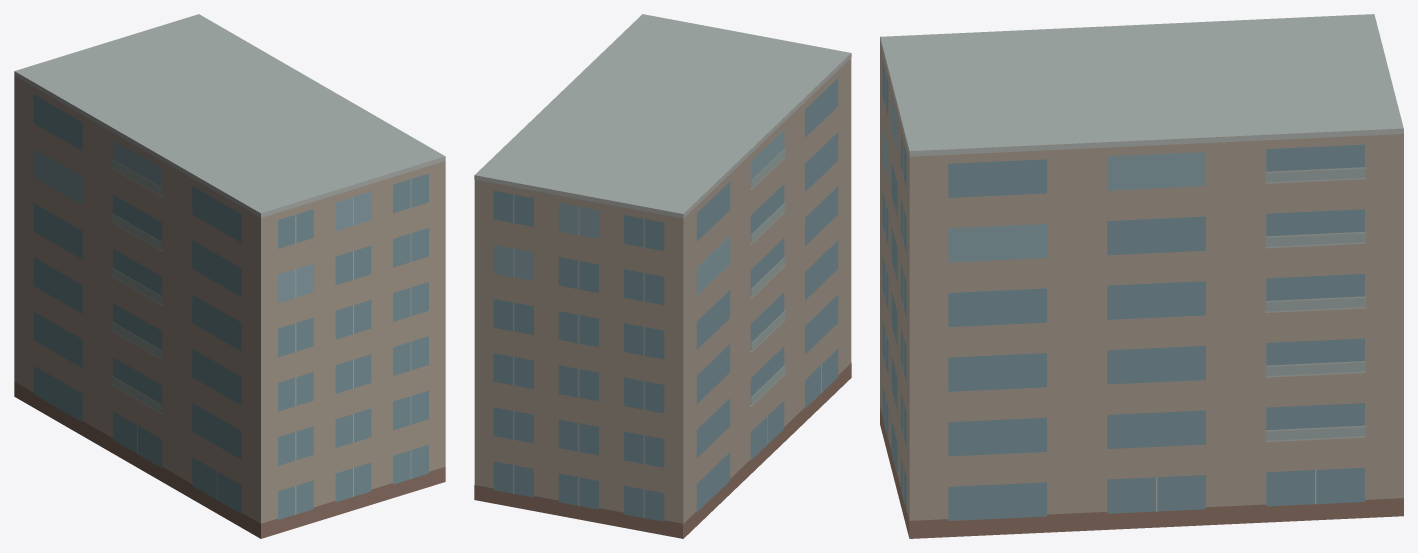
Rendered from survey-upis-32739821.glb.
3 views of the same model, side by side, from view 1: azimuth 30°, elevation 25°; view 2: azimuth 150°, elevation 25°; view 3: azimuth 270°, elevation 25° (orthographic). The views are drawn at different scales.
Visible parts, largest first — view 1: survey-upis-32739821.tmp; view 2: survey-upis-32739821.tmp; view 3: survey-upis-32739821.tmp.
Boxes of the visible parts, bbox=[...] form: survey-upis-32739821.tmp: bbox=[14, 14, 445, 538]; survey-upis-32739821.tmp: bbox=[474, 14, 851, 538]; survey-upis-32739821.tmp: bbox=[880, 14, 1403, 538].
Size of the model in its own units: 13.14 by 17.3 by 21.19.
